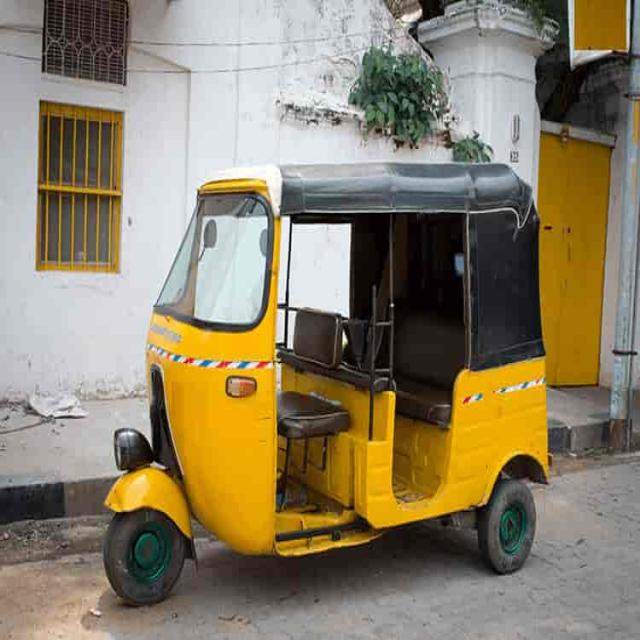autorickshaw: (105, 164, 549, 603)
